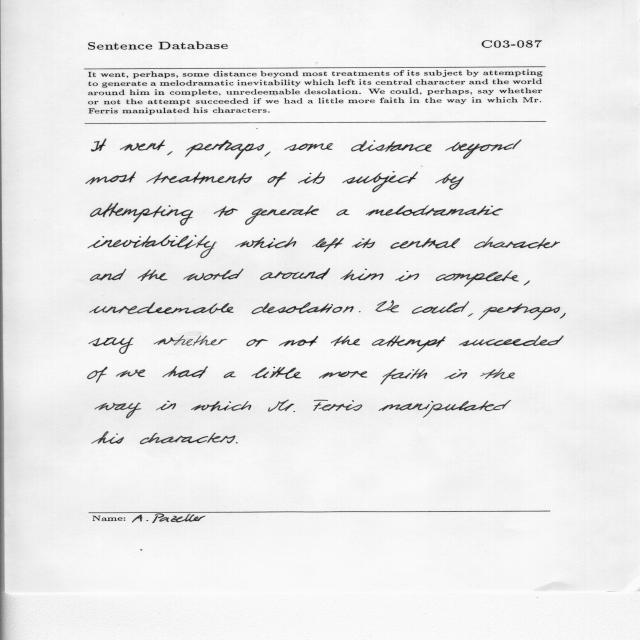word: (88, 235, 217, 258), (90, 203, 193, 225), (379, 400, 511, 417), (90, 302, 234, 314), (342, 171, 418, 193), (185, 140, 264, 160), (446, 139, 522, 159), (366, 205, 503, 216), (245, 205, 319, 225), (436, 270, 519, 287), (479, 304, 560, 321), (146, 172, 252, 184), (372, 336, 446, 353), (252, 302, 354, 314), (459, 336, 564, 346), (140, 433, 235, 444), (474, 237, 560, 249), (351, 140, 432, 152), (260, 268, 330, 280), (154, 335, 227, 346), (381, 368, 427, 385), (391, 238, 461, 249), (412, 301, 469, 314), (95, 402, 141, 418), (184, 269, 244, 281), (89, 337, 134, 353), (235, 237, 296, 248), (86, 172, 136, 185), (251, 367, 301, 379), (191, 401, 251, 411), (162, 366, 208, 378), (314, 400, 363, 411), (340, 269, 384, 281), (120, 140, 165, 151), (435, 173, 464, 190), (312, 238, 344, 252), (91, 269, 127, 281), (279, 336, 318, 347), (92, 431, 124, 444), (284, 143, 333, 151), (480, 369, 515, 379), (319, 371, 367, 378), (298, 172, 325, 184), (268, 400, 295, 412), (88, 367, 108, 383), (138, 270, 167, 281), (267, 172, 287, 187), (331, 336, 360, 346), (376, 301, 400, 313), (214, 206, 238, 217), (396, 271, 420, 282), (352, 238, 376, 248), (116, 370, 145, 378), (445, 369, 467, 379), (156, 401, 176, 411), (92, 139, 107, 152), (246, 339, 268, 347), (337, 209, 350, 216), (224, 371, 236, 378), (560, 313, 566, 319), (265, 152, 271, 157), (524, 281, 530, 286), (167, 152, 172, 156), (468, 313, 473, 317), (236, 442, 238, 444), (359, 311, 360, 312)
